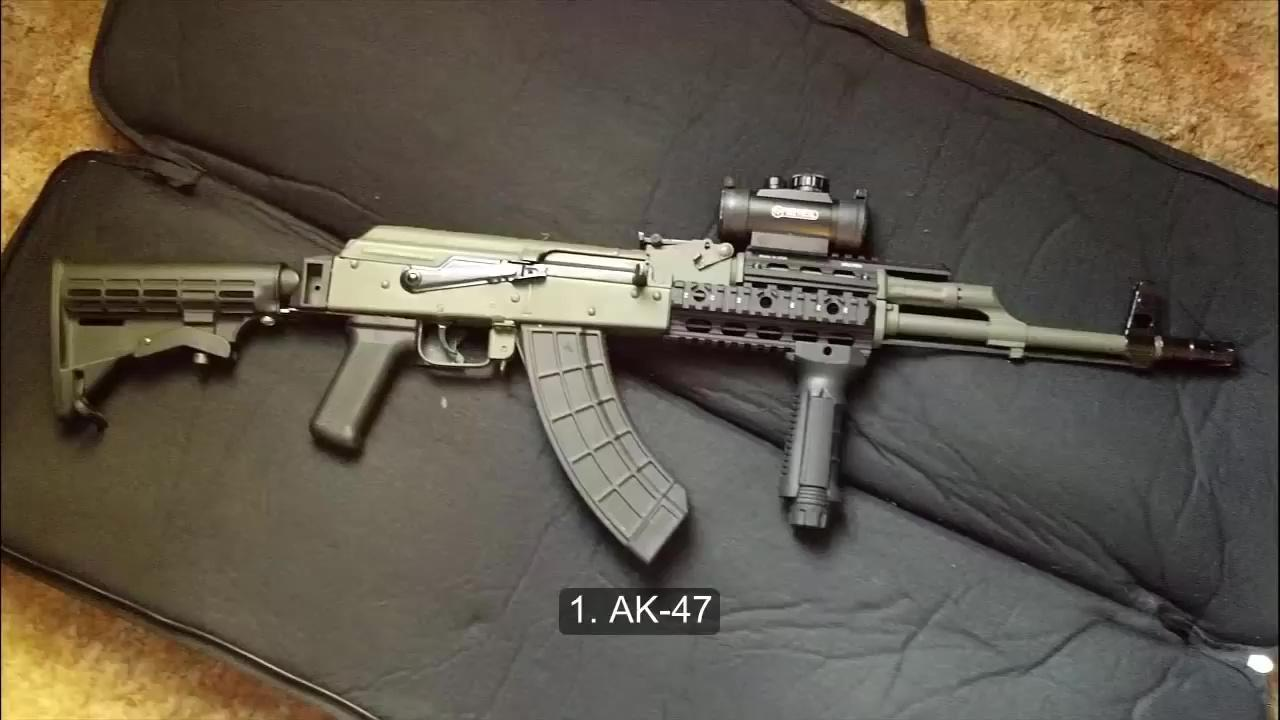Gun: (42, 169, 1246, 570)
